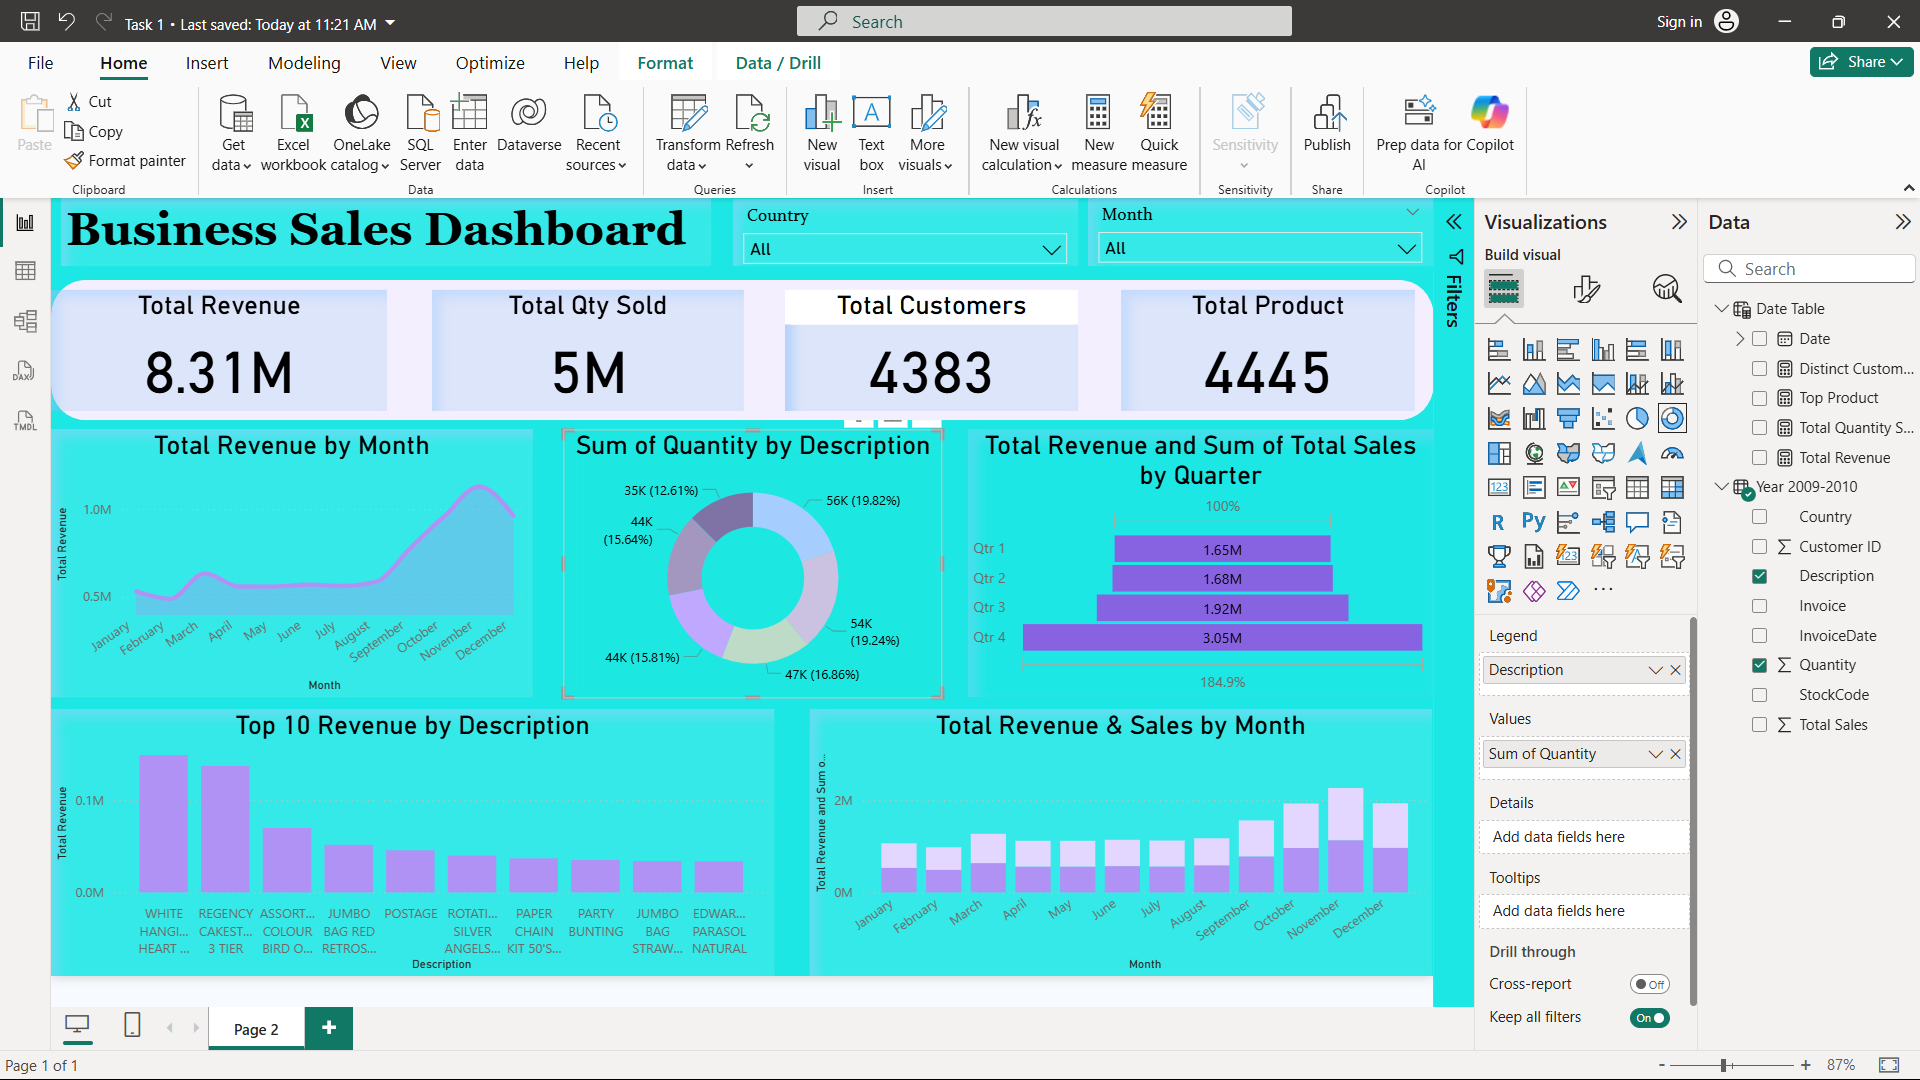

The dashboard page shown, as its layout file describes it:
{"tool":"powerbi","page":{"name":"Page 2","canvas":[1280,720],"ordinal":0},"visuals":[{"type":"textbox","box":[9.6,0,602.4,63.1],"z":0},{"type":"lineChart","fields":{"Y":["Date Table.Total Revenue"],"Category":["Date Table.Date.Variation.Date Hierarchy.Month"]},"box":[0,214.1,446,248.4],"z":1000},{"type":"columnChart","title":"Top 10 Revenue by Description","fields":{"Category":["Year 2009-2010.Description"],"Y":["Date Table.Total Revenue"]},"box":[0,473.4,669.6,247],"z":2000},{"type":"donutChart","fields":{"Category":["Year 2009-2010.Description"],"Y":["Sum(Year 2009-2010.Quantity)"]},"box":[474.8,214.1,351.3,248.4],"z":3000},{"type":"lineStackedColumnComboChart","title":"Total Revenue & Sales by Month","fields":{"Y":["Date Table.Total Revenue","Sum(Year 2009-2010.Total Sales)"],"Category":["Date Table.Date.Variation.Date Hierarchy.Month"]},"box":[702.6,473.4,576.3,247],"z":4000},{"type":"funnel","fields":{"Category":["Date Table.Date.Variation.Date Hierarchy.Quarter"],"Y":["Date Table.Total Revenue"]},"box":[849.4,214.1,430.9,248.4],"z":5000},{"type":"shape","box":[0,75.5,1280.3,130.4],"z":6000},{"type":"card","title":"Total Revenue","fields":{"Values":["Date Table.Total Revenue"]},"box":[0,85.1,311.5,112.5],"z":7000},{"type":"card","title":"Total Customers","fields":{"Values":["Date Table.Distinct Customers"]},"box":[679.2,85.1,271.7,112.5],"z":8000},{"type":"card","title":"Total Qty Sold","fields":{"Values":["Date Table.Total Quantity Sold"]},"box":[352.7,85.1,288.2,112.5],"z":9000},{"type":"card","title":"Total Product","fields":{"Values":["Count(Year 2009-2010.Description)"]},"box":[990.7,85.1,271.7,112.5],"z":10000},{"type":"slicer","fields":{"Values":["Year 2009-2010.Country"]},"box":[631.2,1.4,319.7,61.7],"z":11000},{"type":"slicer","fields":{"Values":["Date Table.Date.Variation.Date Hierarchy.Month"]},"box":[960.6,0,319.7,63.1],"z":12000}]}

Visuals, with their boxes on the page's 1280x720 design canvas (x1, y1, x2, y2). These are canvas units, not pixel positions in the 1920x1080 screenshot, which may show the page scaled, cropped or inside an application window:
textbox: pyautogui.locateOnScreen(10, 0, 612, 63)
lineChart - Date Table.Total Revenue x Date Table.Date.Variation.Date Hierarchy.Month: pyautogui.locateOnScreen(0, 214, 446, 462)
"Top 10 Revenue by Description" columnChart: pyautogui.locateOnScreen(0, 473, 670, 720)
donutChart - Year 2009-2010.Description x Sum(Year 2009-2010.Quantity): pyautogui.locateOnScreen(475, 214, 826, 462)
"Total Revenue & Sales by Month" lineStackedColumnComboChart: pyautogui.locateOnScreen(703, 473, 1279, 720)
funnel - Date Table.Date.Variation.Date Hierarchy.Quarter x Date Table.Total Revenue: pyautogui.locateOnScreen(849, 214, 1280, 462)
shape: pyautogui.locateOnScreen(0, 76, 1280, 206)
"Total Revenue" card: pyautogui.locateOnScreen(0, 85, 312, 198)
"Total Customers" card: pyautogui.locateOnScreen(679, 85, 951, 198)
"Total Qty Sold" card: pyautogui.locateOnScreen(353, 85, 641, 198)
"Total Product" card: pyautogui.locateOnScreen(991, 85, 1262, 198)
slicer - Year 2009-2010.Country: pyautogui.locateOnScreen(631, 1, 951, 63)
slicer - Date Table.Date.Variation.Date Hierarchy.Month: pyautogui.locateOnScreen(961, 0, 1280, 63)
